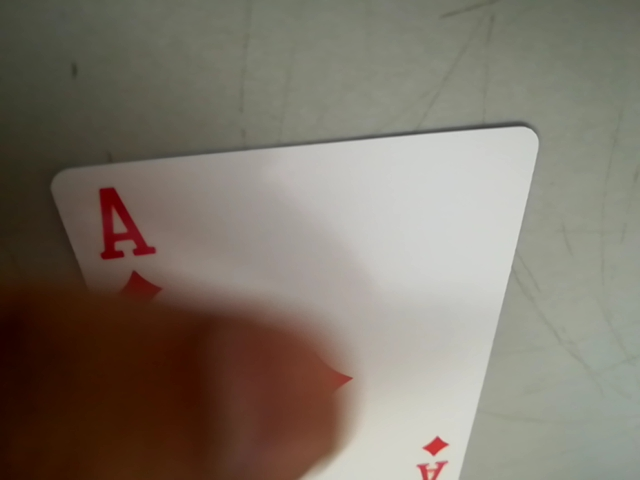fk a: (82, 182, 161, 271), (404, 430, 458, 478)
